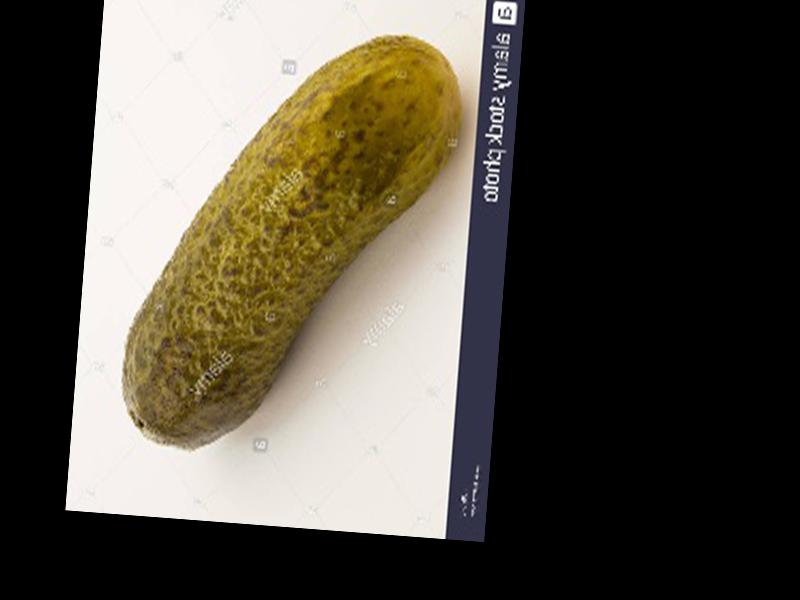Cucumber: (119, 14, 465, 466)
